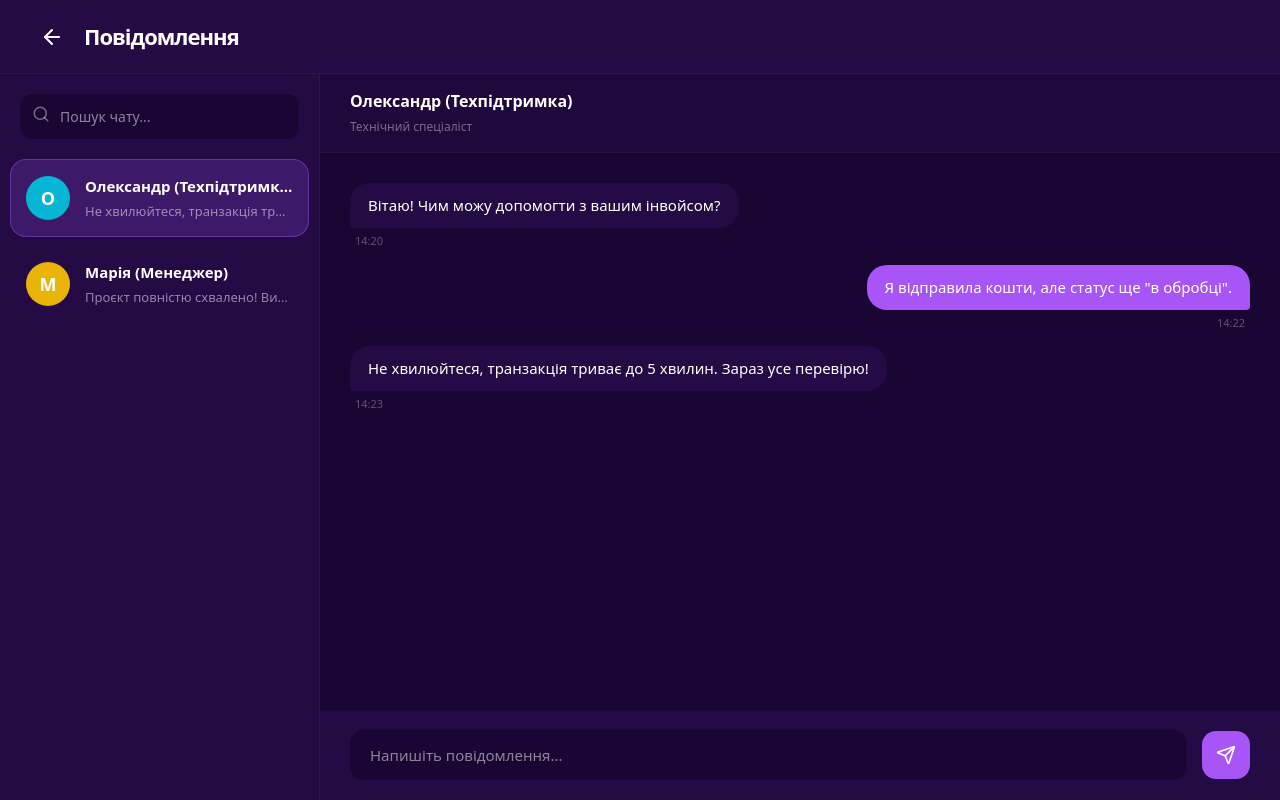
Messages › switches active chat when another chat is clicked
The width and height of the screenshot is (1280, 800).
Click the text "Марія (Менеджер)".
click(189, 284)  # box [85,261,293,307]
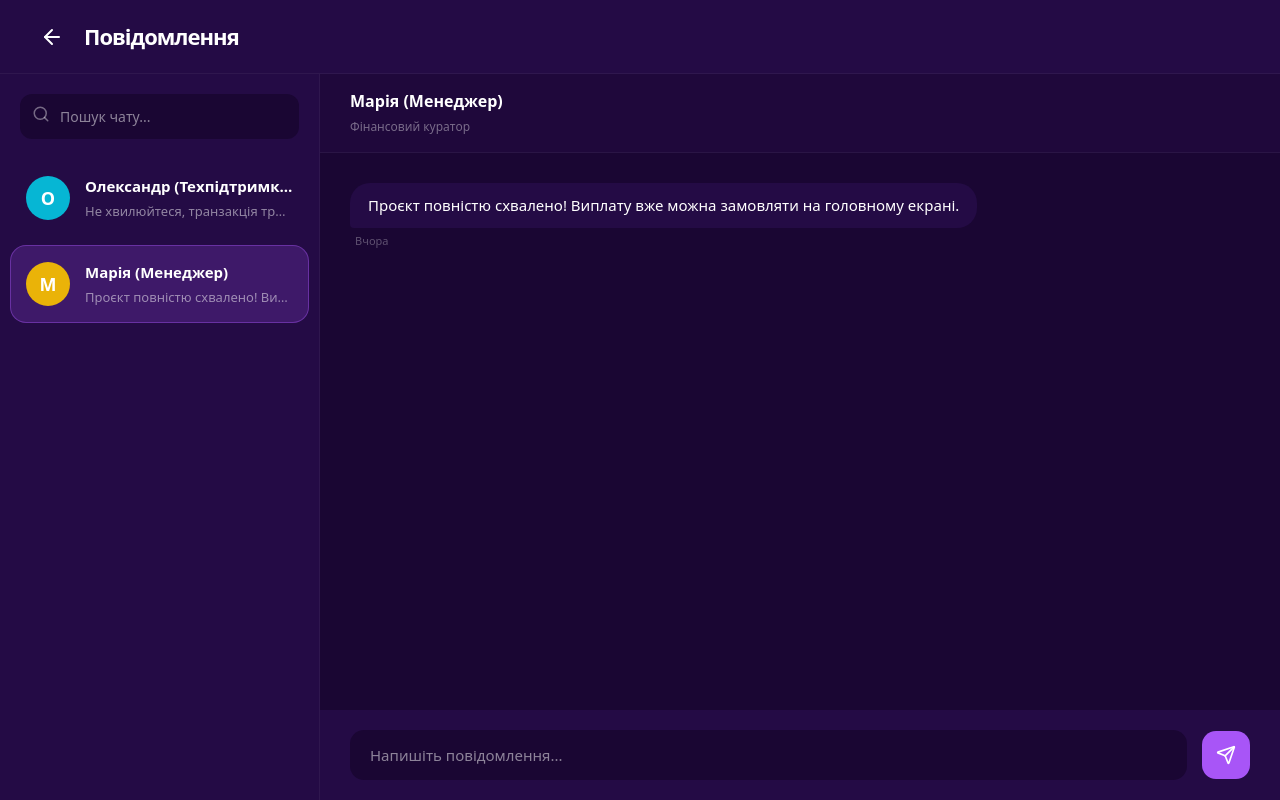
Expected: the text "Фінансовий куратор" is shown, [350,118,470,135]
